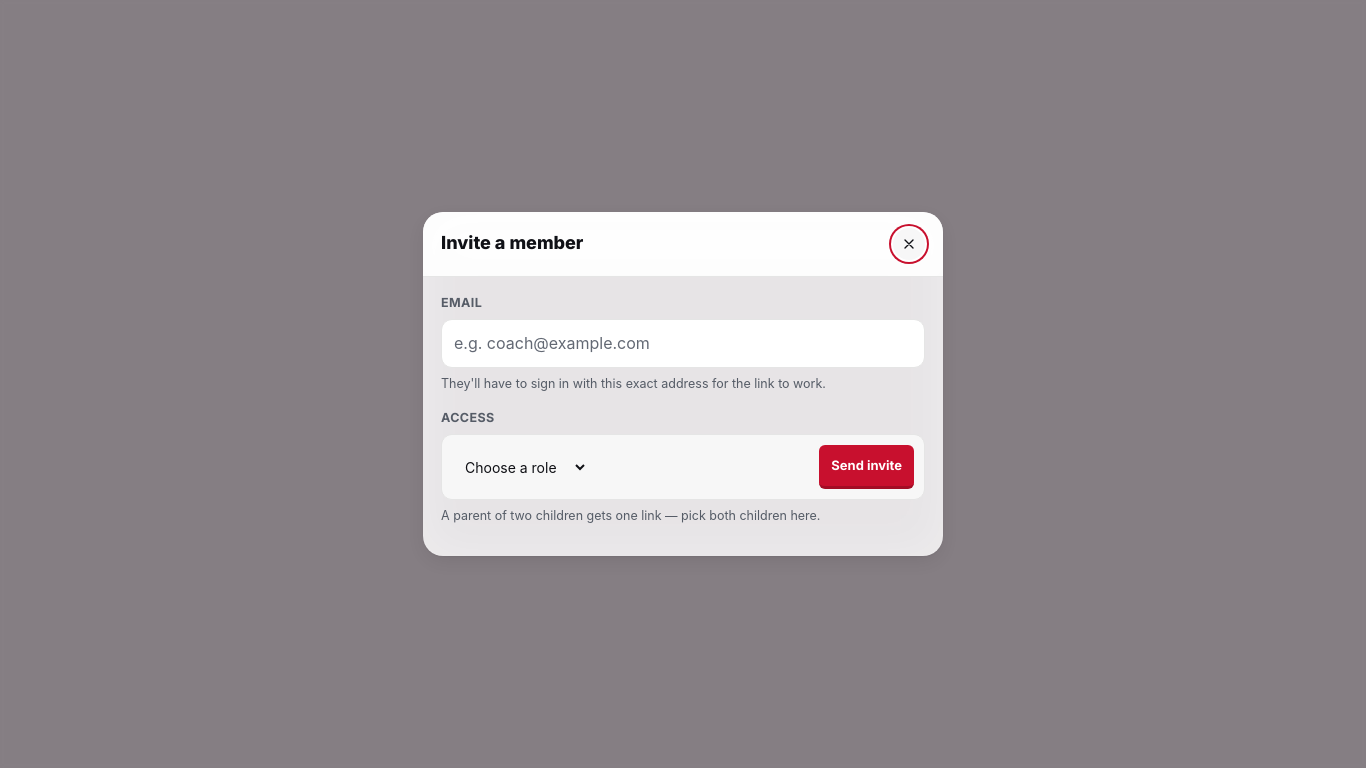
Test: InviteForm — validation › refuses an incomplete invite: a non-admin role with no age group chosen
The image size is (1366, 768).
Type "coach@example.com" into the field labelled "Email".
click(683, 344); type("coach@example.com")  # box [441,319,925,368]
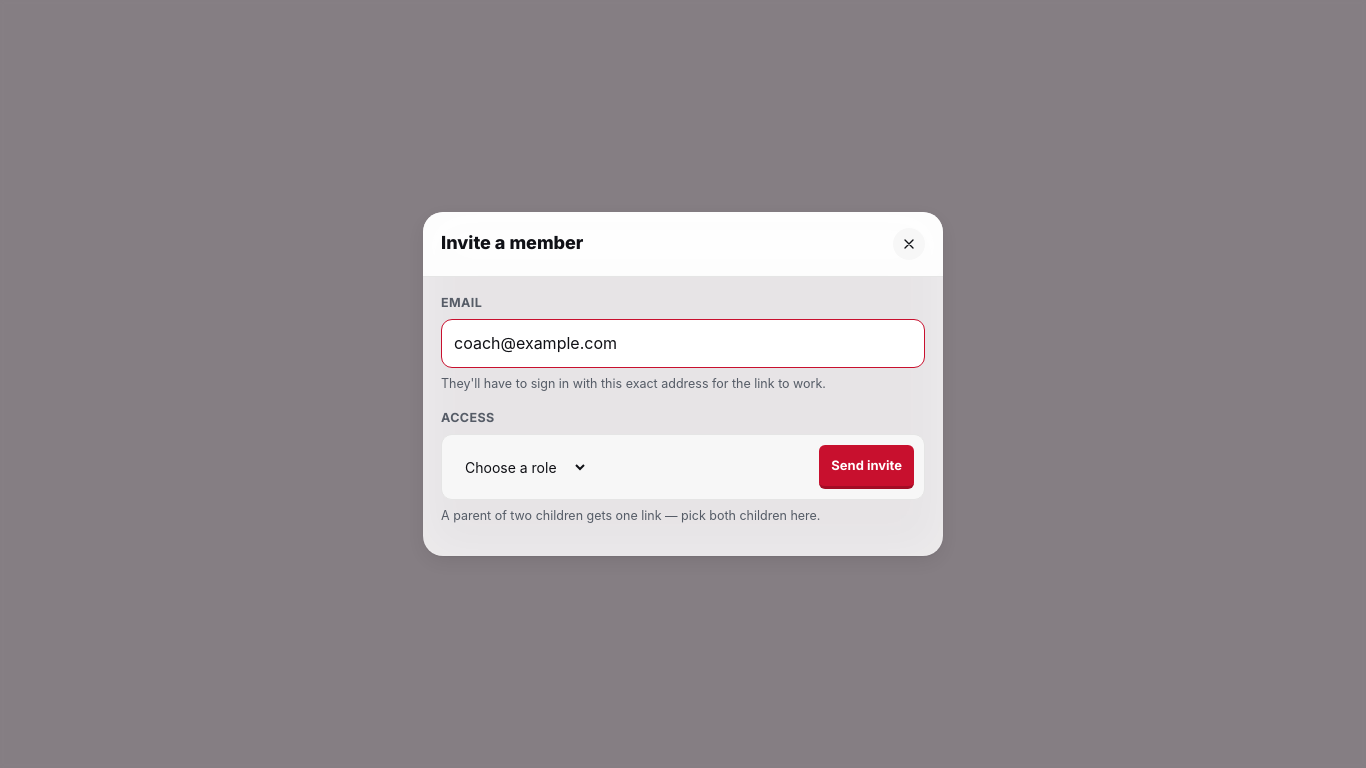
Select "Coach" in the dropdown named "Role for the new member" at (520, 467), box [452,453,589,482]
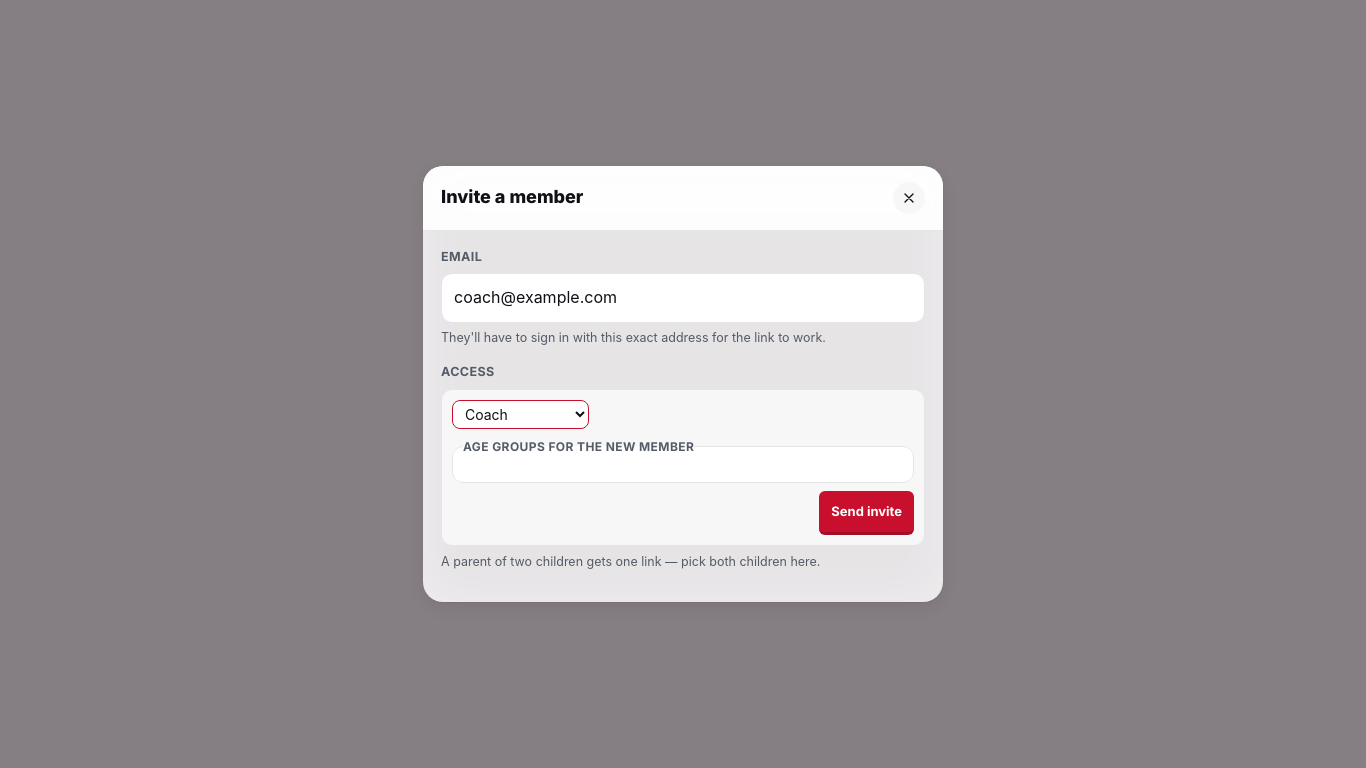
Click the button "Send invite".
click(867, 513)  # box [819,491,914,535]
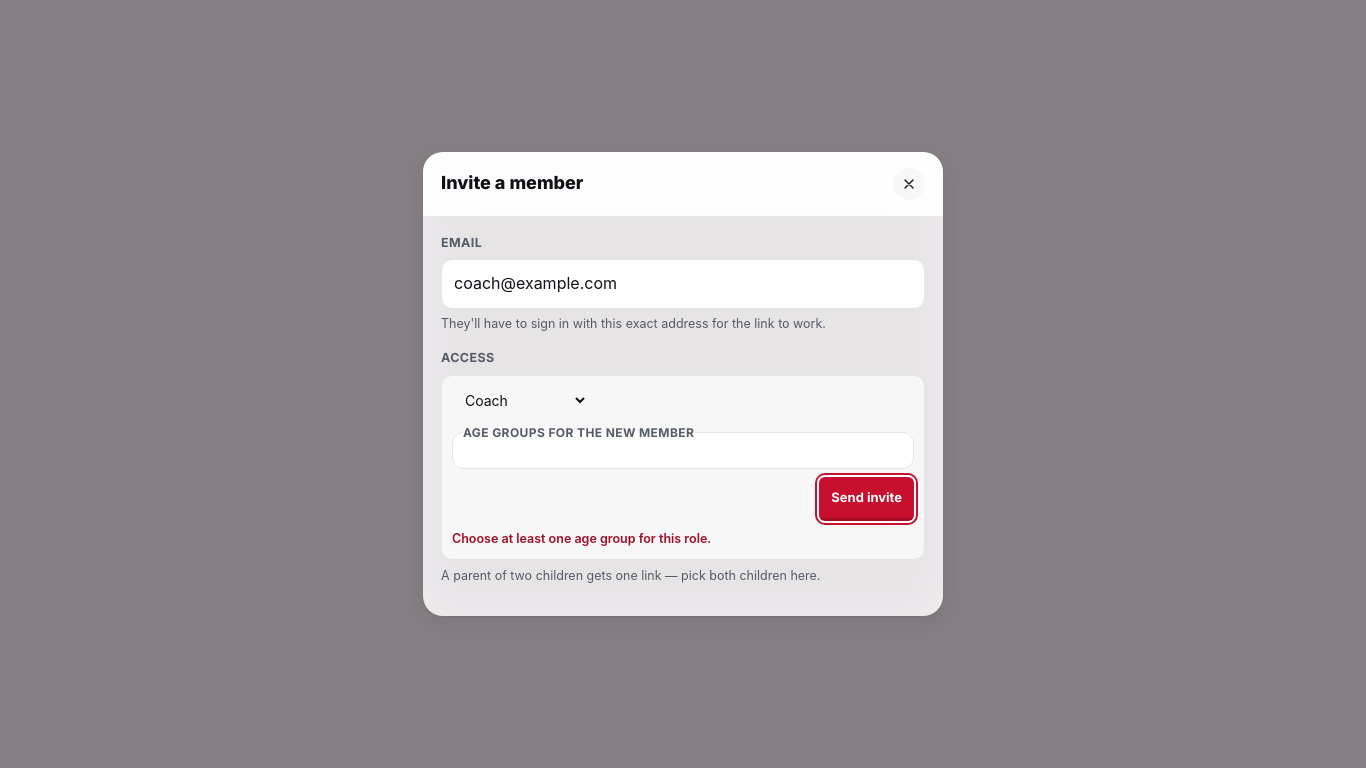
Expected: the message shows "at least one age group", [452,531,711,546]
